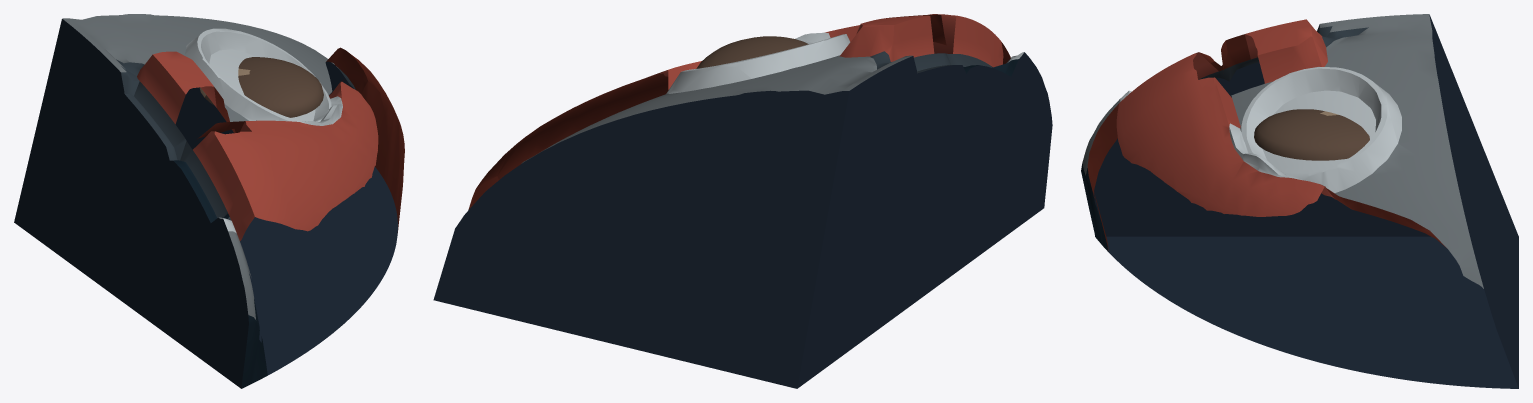
Rendered from armour_dome_br.glb.
The picture shows the model from 3 angles, left to right: view 1: azimuth 30°, elevation 25°; view 2: azimuth 150°, elevation 25°; view 3: azimuth 270°, elevation 25°; orthographic projection. The views are drawn at different scales.
Visible parts, largest first — view 1: armour_dome_br; view 2: armour_dome_br; view 3: armour_dome_br.
Boxes of the visible parts, <box> form: armour_dome_br: <box>14,14,404,388</box>; armour_dome_br: <box>433,14,1052,388</box>; armour_dome_br: <box>1081,14,1518,388</box>.
Bounding box in the file's own units: 18.98 × 13.3 × 23.07.
